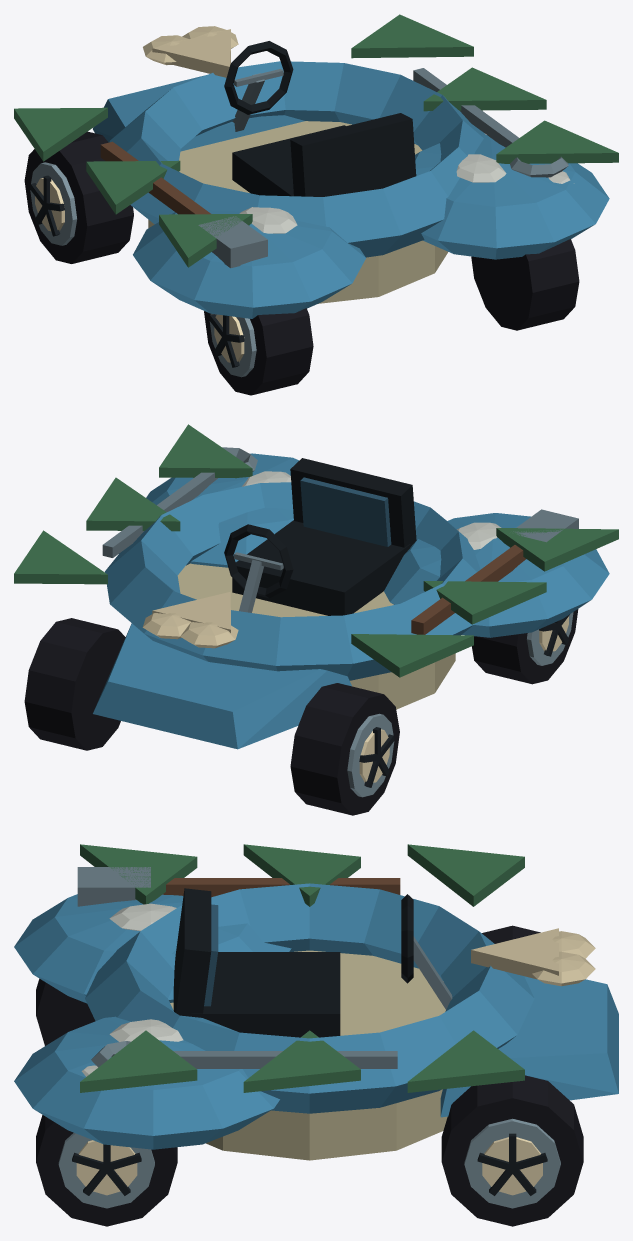
Rendered from kart.glb.
The picture shows the model from 3 angles, top to bottom: view 1: azimuth 30°, elevation 25°; view 2: azimuth 150°, elevation 25°; view 3: azimuth 270°, elevation 25°; orthographic projection. The views are drawn at different scales.
Visible parts, largest first — view 1: identity-mushroom-mushroom-cap-fenders, identity-mushroom-motif-leaves, identity-mushroom-driver-cockpit, wheel-front-left, wheel-rear-left, wheel-rear-right, identity-mushroom-motif-tools, identity-mushroom-motif-heart; view 2: identity-mushroom-mushroom-cap-fenders, identity-mushroom-driver-cockpit, identity-mushroom-motif-leaves, wheel-front-left, wheel-front-right, identity-mushroom-motif-tools, wheel-rear-left, identity-mushroom-motif-heart; view 3: identity-mushroom-mushroom-cap-fenders, identity-mushroom-motif-leaves, identity-mushroom-driver-cockpit, wheel-front-right, wheel-rear-right, identity-mushroom-motif-tools, identity-mushroom-motif-heart, wheel-rear-left, wheel-front-left.
Boxes of the visible parts, x1,y1,x2,y2 form: identity-mushroom-mushroom-cap-fenders: (93,61,609,318); identity-mushroom-motif-leaves: (14,14,618,267); identity-mushroom-driver-cockpit: (224,41,416,196); wheel-front-left: (24,131,133,263); wheel-rear-left: (204,308,313,395); wheel-rear-right: (471,239,579,330); identity-mushroom-motif-tools: (100,68,568,268); identity-mushroom-motif-heart: (143,26,238,77); identity-mushroom-mushroom-cap-fenders: (93,453,609,749); identity-mushroom-driver-cockpit: (224,458,416,615); identity-mushroom-motif-leaves: (14,424,618,677); wheel-front-left: (290,683,399,815); wheel-front-right: (24,618,125,750); identity-mushroom-motif-tools: (102,447,578,634); wheel-rear-left: (472,609,578,684); identity-mushroom-motif-heart: (142,591,238,648); identity-mushroom-mushroom-cap-fenders: (14,883,618,1160); identity-mushroom-motif-leaves: (80,844,524,1092); identity-mushroom-driver-cockpit: (173,888,452,1037); wheel-front-right: (441,1075,583,1226); wheel-rear-right: (36,1115,177,1226); identity-mushroom-motif-tools: (77,867,400,1068); identity-mushroom-motif-heart: (471,928,595,986); wheel-rear-left: (36,978,95,1045); wheel-front-left: (482,925,540,943).
Size of the model in its own units: 2.36 by 1.09 by 2.48.
